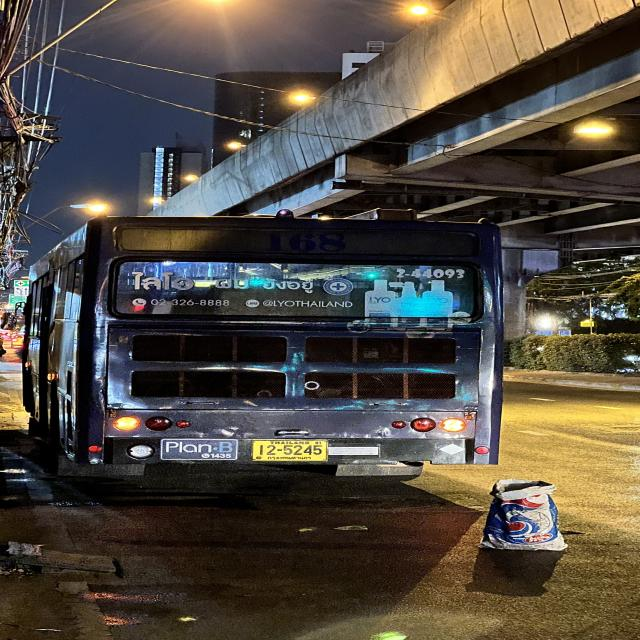BMTA-bus: (21, 204, 512, 488)
Bus-Line-Number: (253, 229, 368, 253)
